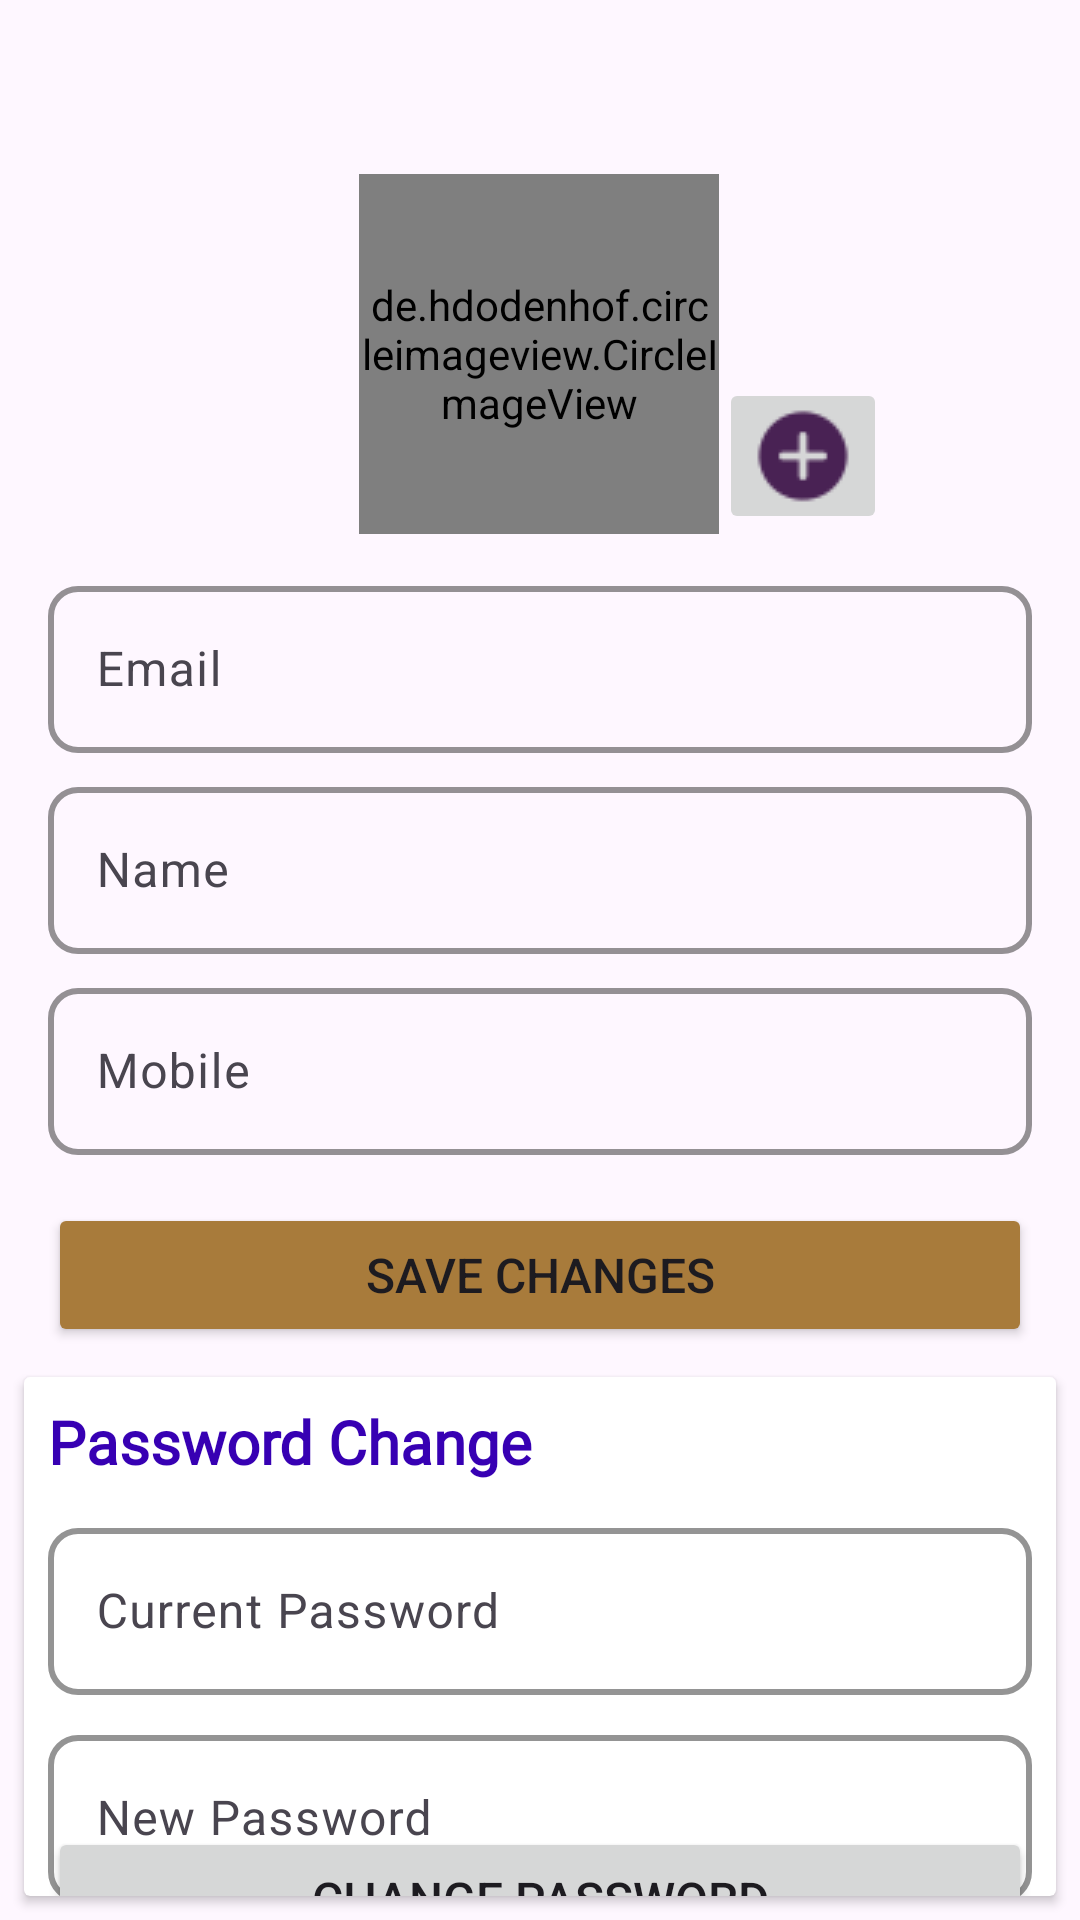

Icon bounding boxes for this 1080 × 1920 phone screenshot, format BBox(x1, y1, x2, y2):
add: BBox(731, 396, 875, 516)
